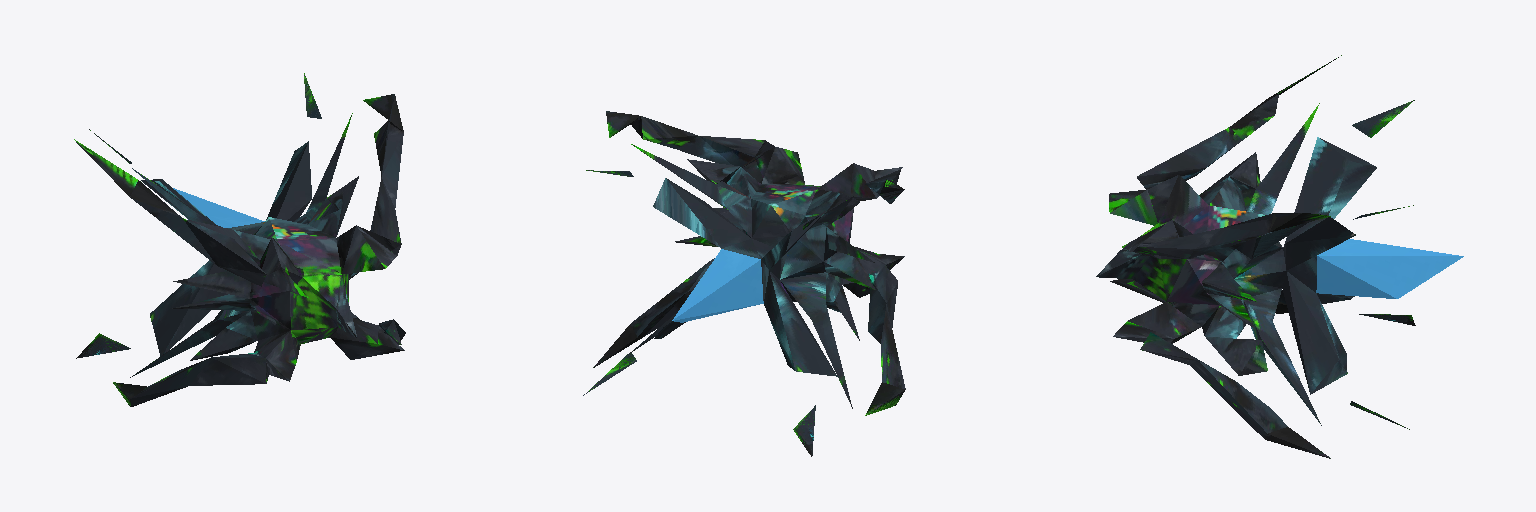
The picture shows the model from 3 angles: view 1: azimuth 30°, elevation 25°; view 2: azimuth 150°, elevation 25°; view 3: azimuth 270°, elevation 25°; orthographic projection.
Visible parts, largest first — view 1: ai_model; view 2: ai_model; view 3: ai_model.
Boxes of the visible parts, x1,y1,x2,y2 form: ai_model: [74, 73, 405, 406]; ai_model: [583, 111, 905, 456]; ai_model: [1096, 55, 1463, 458].
Bounding box in the file's own units: 0.9037 × 0.7481 × 0.9594.
Materials: 1 (1 with a texture image).